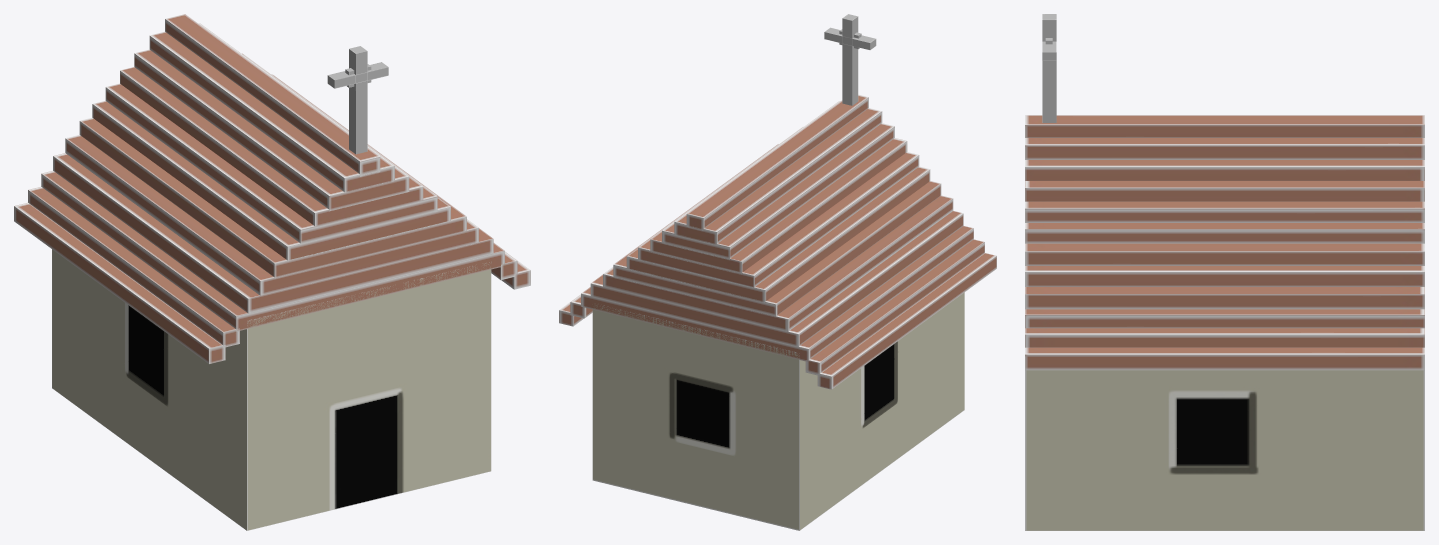
Rendered from House_01.fbx.
The picture shows the model from 3 angles, left to right: view 1: azimuth 30°, elevation 25°; view 2: azimuth 150°, elevation 25°; view 3: azimuth 270°, elevation 25°; orthographic projection. The views are drawn at different scales.
Visible parts, largest first — view 1: pCube69; view 2: pCube69; view 3: pCube69.
Part boxes in pixels (box(x1,y1,x2,y2)): pCube69: box(14, 14, 530, 530); pCube69: box(559, 14, 996, 530); pCube69: box(1025, 14, 1424, 530).
Bounding box in the file's own units: 10.07 × 13.22 × 10.57.
1 material, 1 textured.
